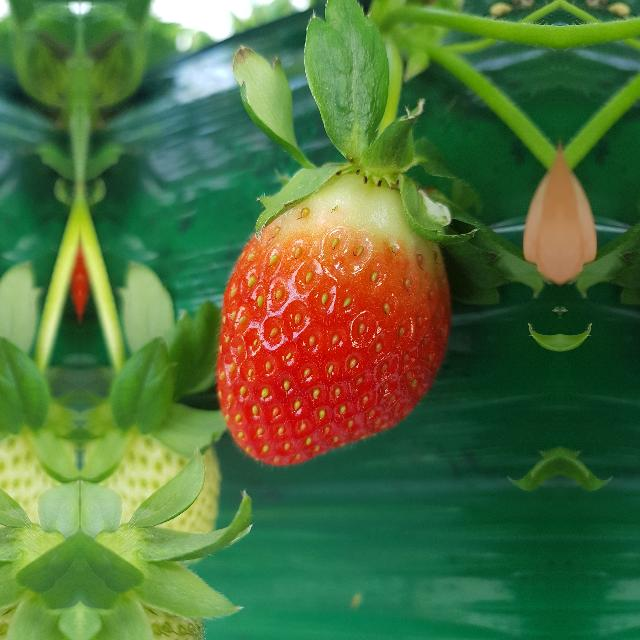Health_100: (214, 170, 452, 468)
